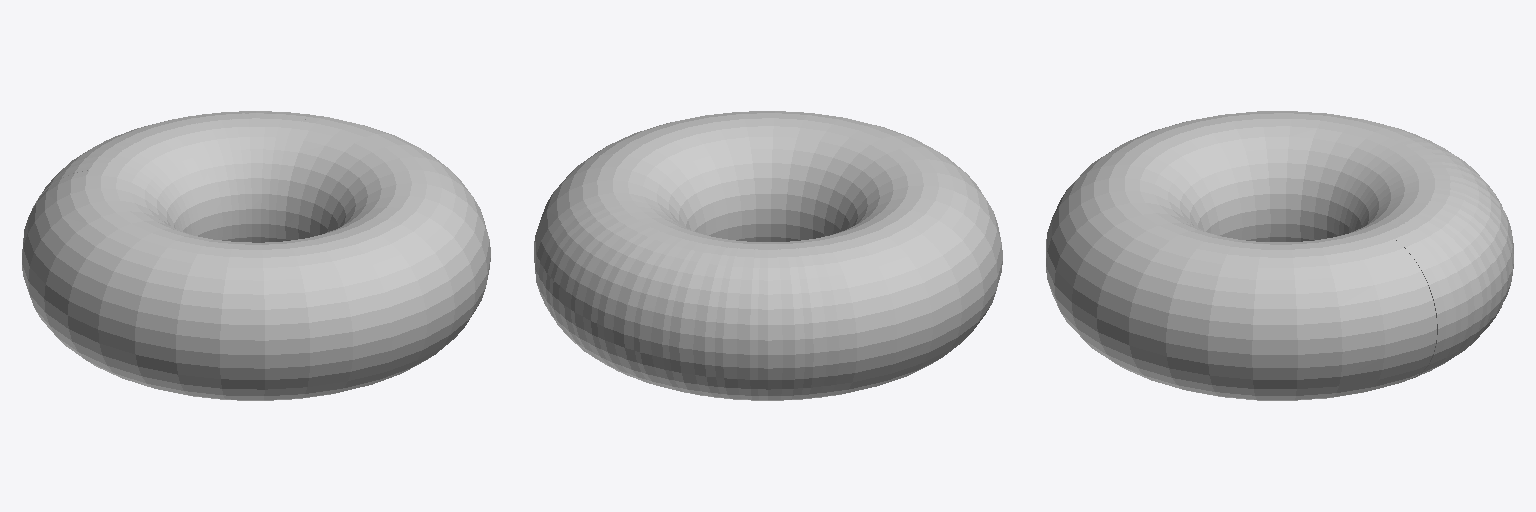
File: dona5.obj
3 renders of one model, left to right at view 1: azimuth 30°, elevation 25°; view 2: azimuth 150°, elevation 25°; view 3: azimuth 270°, elevation 25°, orthographic.
Parts seen in each view (by area): view 1: dona5:Mesh; view 2: dona5:Mesh; view 3: dona5:Mesh.
Boxes of the visible parts, x1,y1,x2,y2 form: dona5:Mesh: [22, 111, 490, 400]; dona5:Mesh: [534, 111, 1002, 400]; dona5:Mesh: [1046, 111, 1513, 400].
Size of the model in its own units: 1.25 by 0.4245 by 1.25.